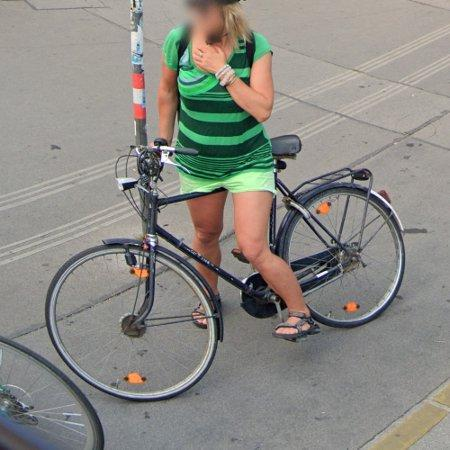bicycles: (268, 135, 406, 328)
